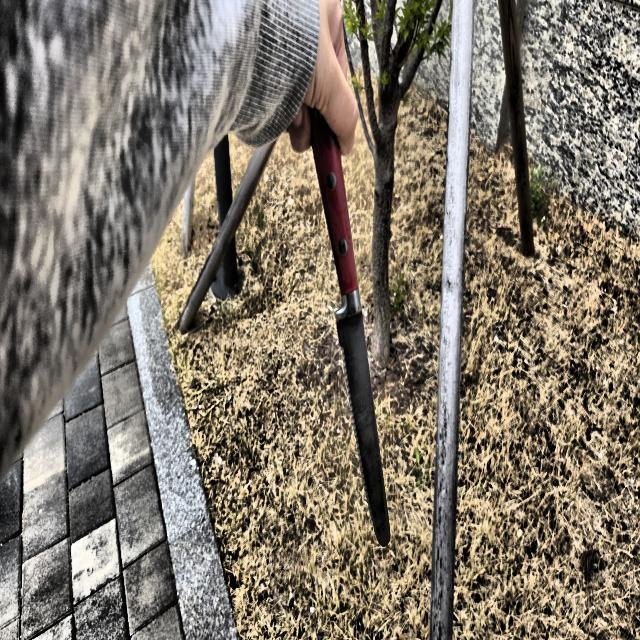knife: (305, 100, 391, 550)
